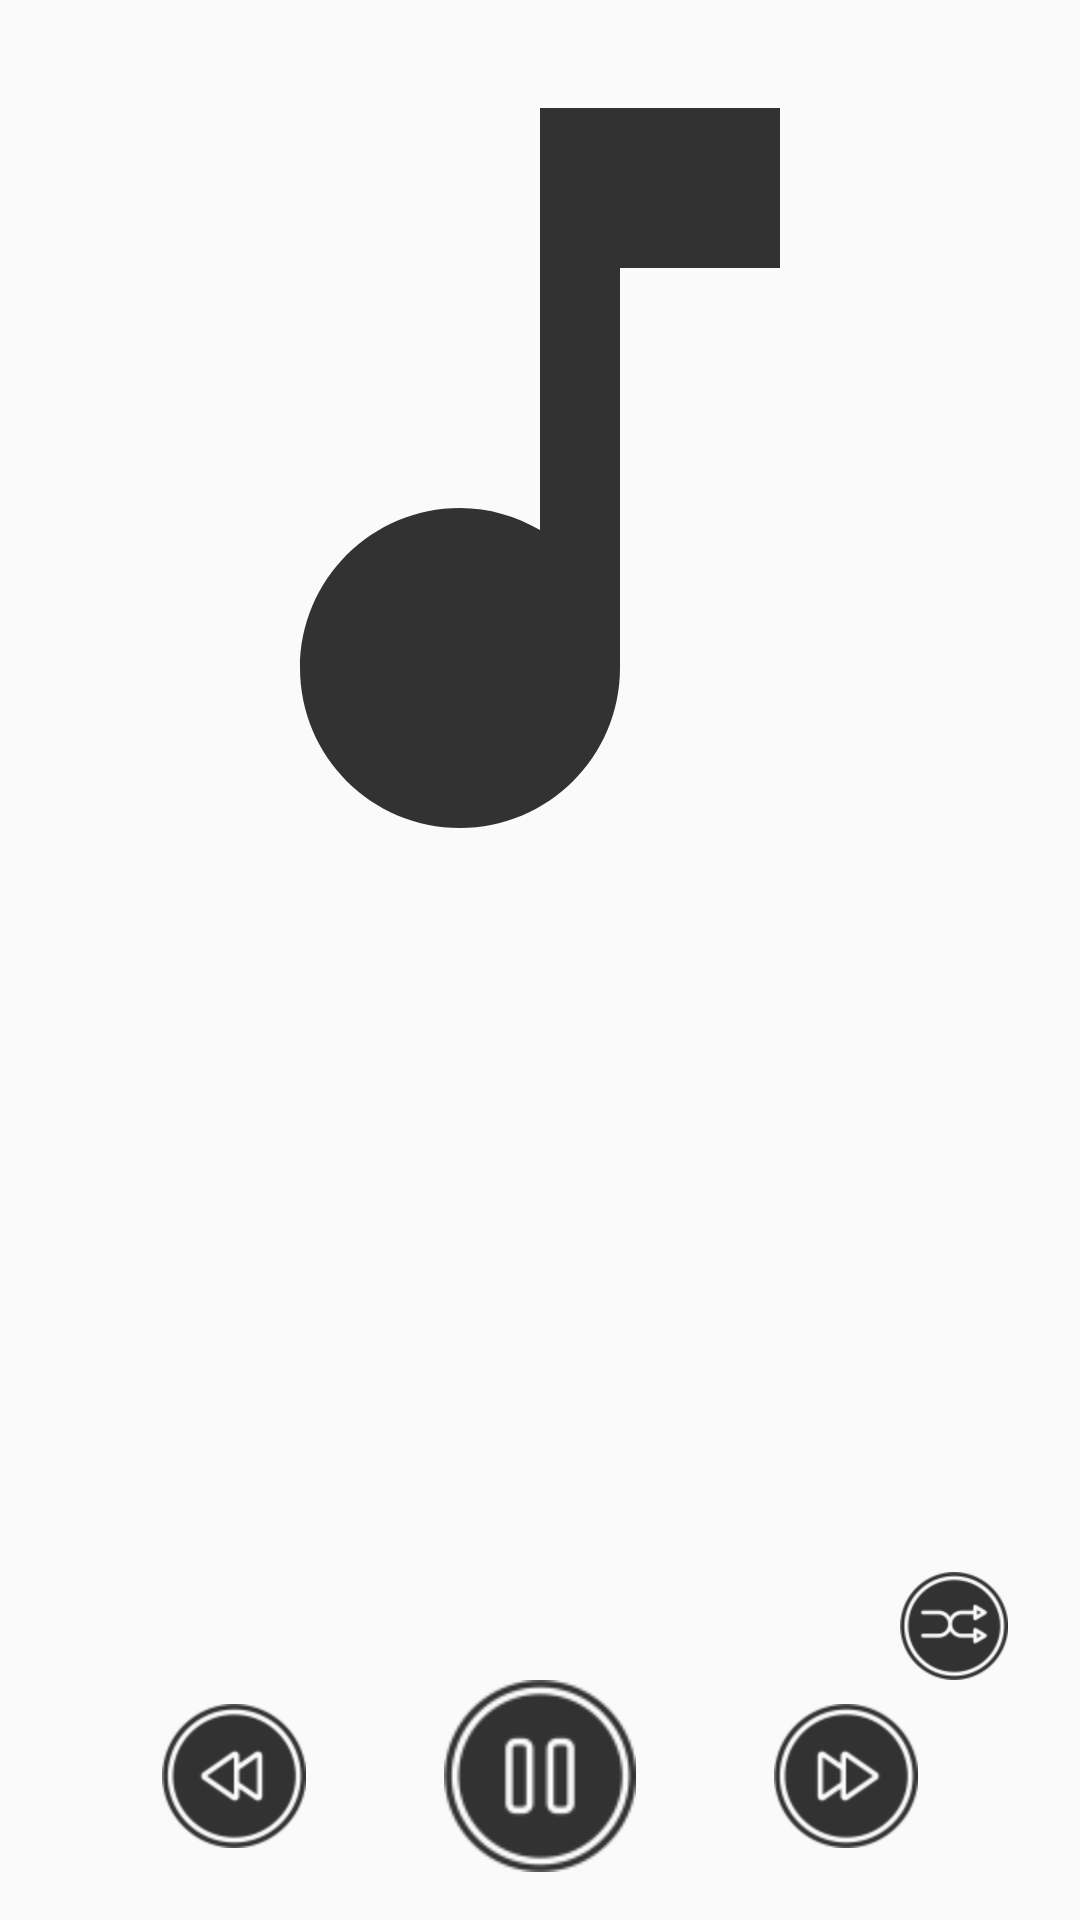

Locate icon controls on the screen. Image size 1080 × 1920, boxes as {"x1": x1, "y1": y1, "x2": x2, "y2": y2}.
next: {"x1": 774, "y1": 1704, "x2": 918, "y2": 1848}
pause: {"x1": 444, "y1": 1680, "x2": 636, "y2": 1872}
previous: {"x1": 162, "y1": 1704, "x2": 306, "y2": 1848}
shufle: {"x1": 900, "y1": 1572, "x2": 1008, "y2": 1680}
